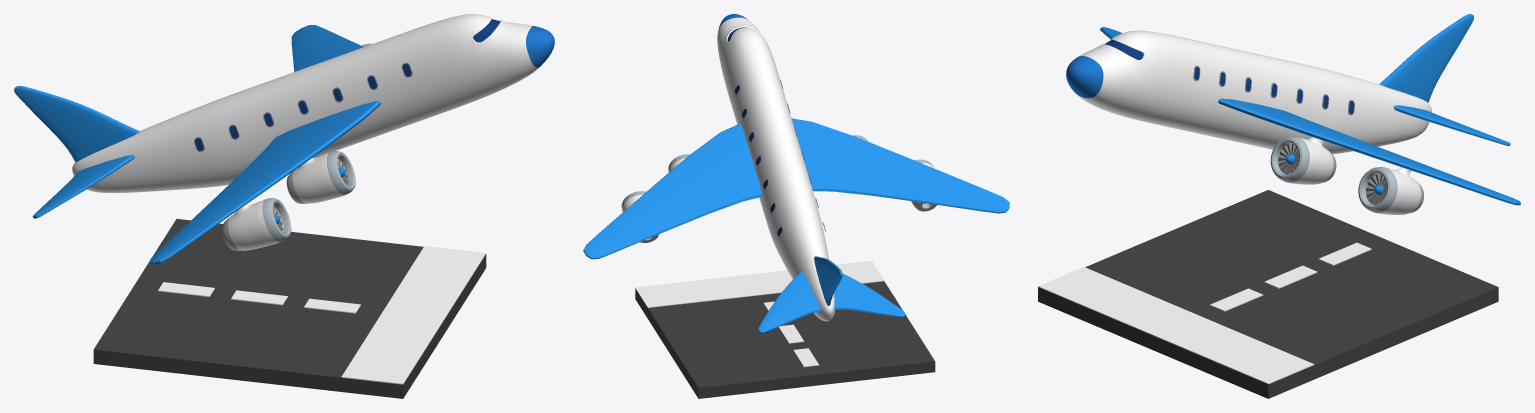
The model's file is airplane_departure.glb.
3 views of the same model, side by side, from view 1: azimuth 30°, elevation 25°; view 2: azimuth 150°, elevation 25°; view 3: azimuth 270°, elevation 25° (orthographic). The views are drawn at different scales.
Visible parts, largest first — view 1: Cube.797, Cube.796; view 2: Cube.797, Cube.796; view 3: Cube.796, Cube.797.
Part boxes in pixels (x1,y1,x2,y2): Cube.797: [14, 14, 554, 264]; Cube.796: [93, 218, 486, 398]; Cube.797: [583, 14, 1009, 333]; Cube.796: [635, 260, 935, 398]; Cube.796: [1038, 190, 1498, 398]; Cube.797: [1066, 14, 1520, 214].
Bounding box in the file's own units: 2.08 × 1.54 × 2.08.
Materials: 1 (1 with a texture image).
